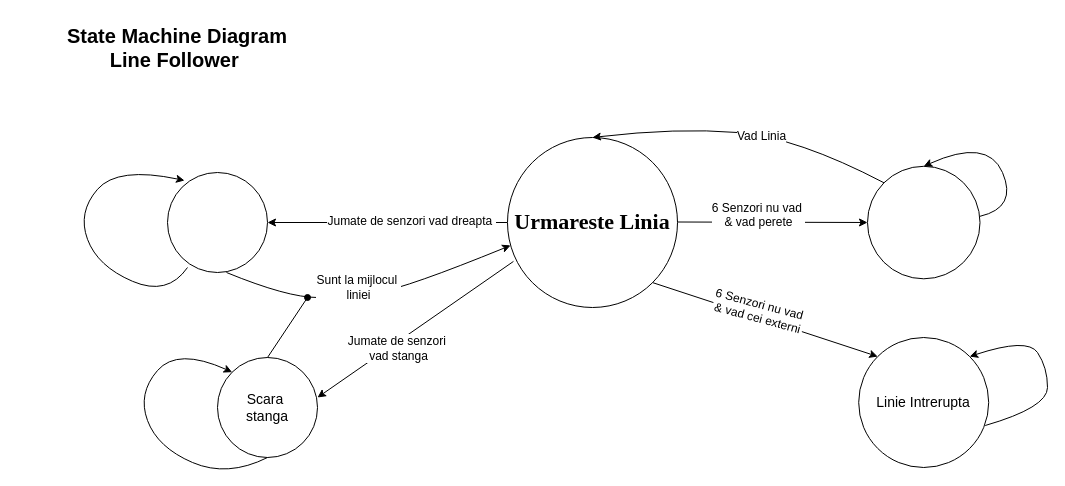
Image size: 1065x486. Some labels were removed from this diagram. Each missing label, with the box of its shape:
Scara dreapta: (166, 172, 268, 272)
Urmareste Perete: (866, 165, 980, 279)
